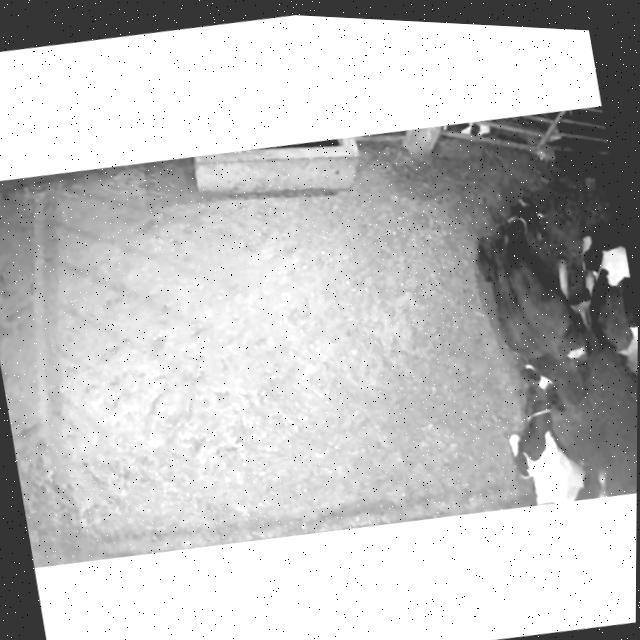lay: (445, 170, 602, 411), (471, 341, 622, 517), (556, 162, 639, 407)
